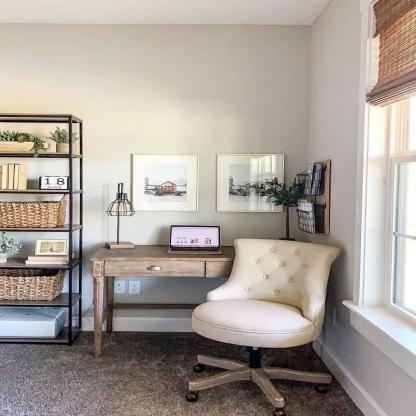chair: (181, 237, 347, 416)
table: (87, 230, 238, 364), (99, 179, 139, 252)
